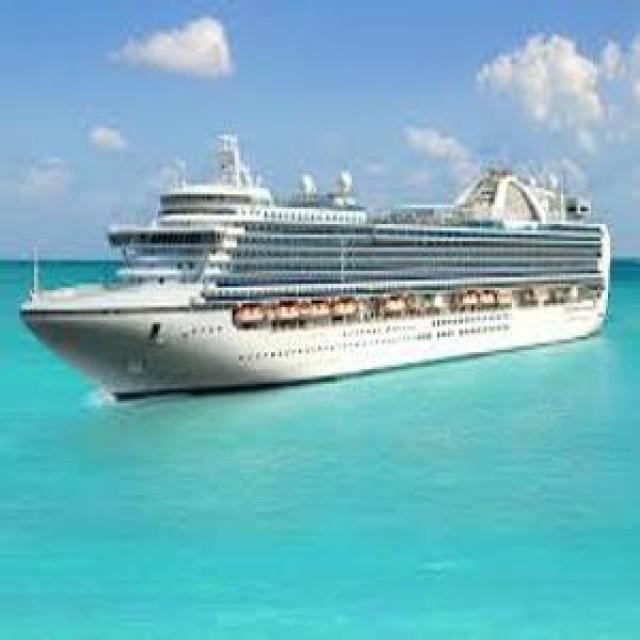passenger ship: (22, 130, 612, 394)
